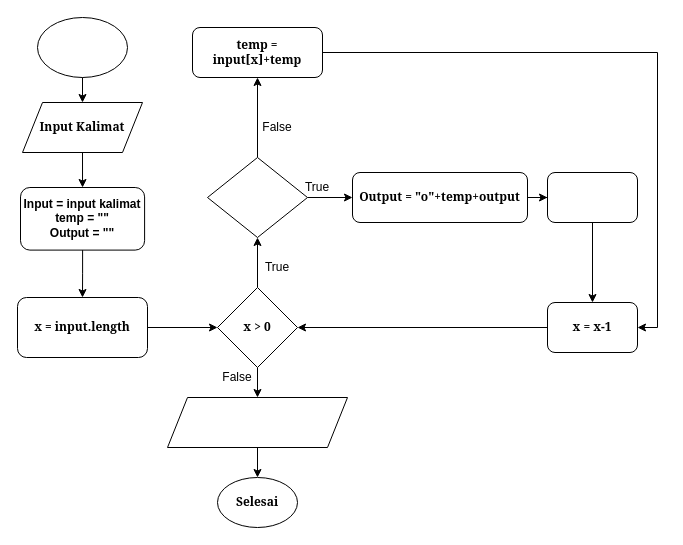
Some shapes in this 683 by 545 pixel diagram are drawn without their labels. The shapes that lost their labels are listed below. From the top down, each one's centre as x and y in pixels, then its label:
(82,47): Mulai
(257,197): input[x]== "a"
(592,197): temp = ""
(257,422): Output=temp+Output
